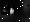person: (2, 7, 11, 19), (11, 8, 16, 16)
